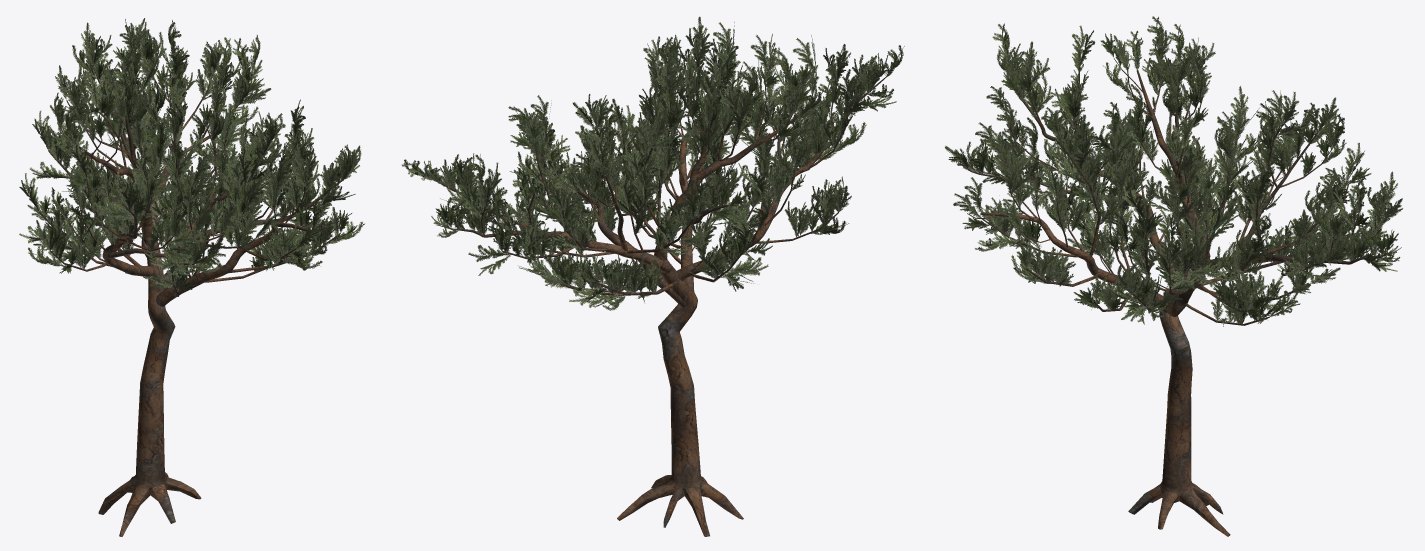
File: SM_FineTree.fbx
3 views of the same model, side by side, from view 1: azimuth 30°, elevation 25°; view 2: azimuth 150°, elevation 25°; view 3: azimuth 270°, elevation 25° (orthographic).
Parts seen in each view (by area): view 1: SM_FineTree; view 2: SM_FineTree; view 3: SM_FineTree.
Part boxes in pixels (x1,y1,x2,y2): SM_FineTree: (19, 18, 364, 536); SM_FineTree: (401, 16, 904, 536); SM_FineTree: (945, 16, 1402, 536).
Size of the model in its own units: 405 by 480 by 527.
Materials: 2 (2 with a texture image).
